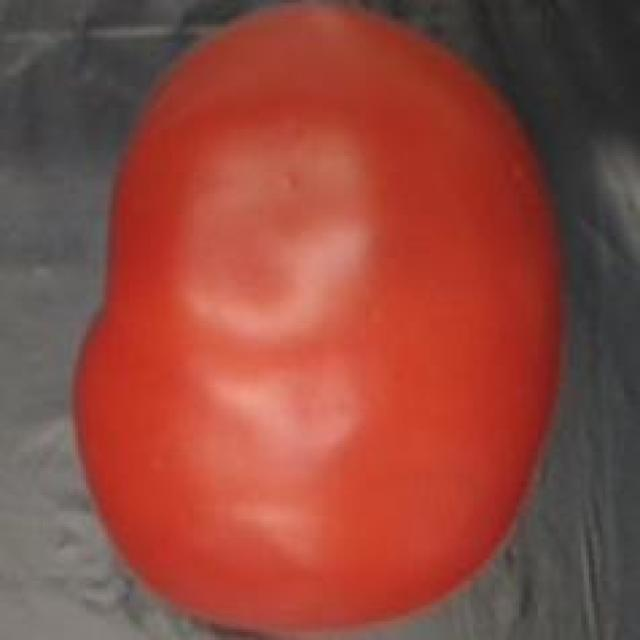ripe tomato: (65, 0, 570, 640)
